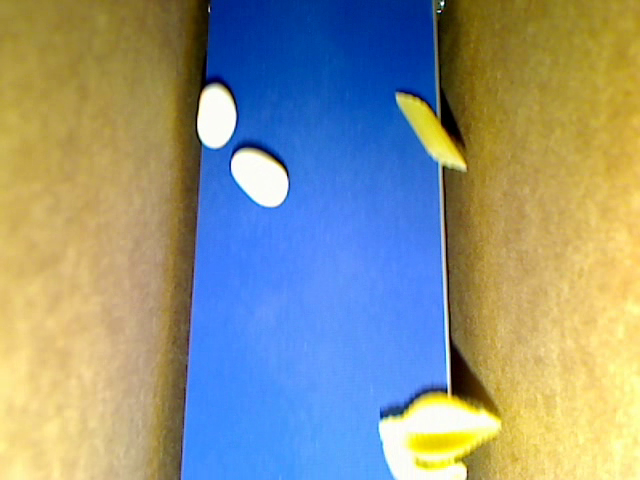elbow: (381, 439, 468, 479)
penne: (394, 91, 468, 172)
shell: (379, 390, 501, 468)
